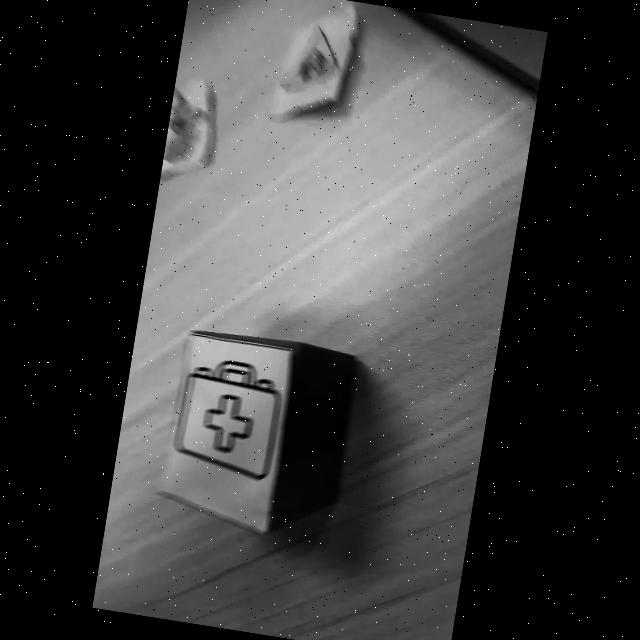Medkit: (175, 364, 281, 480)
